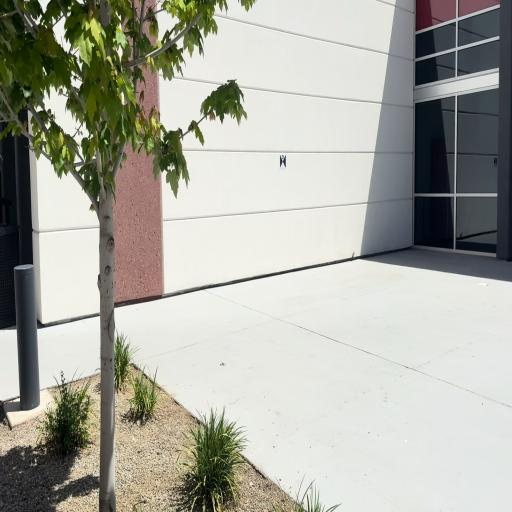target0: (279, 154, 286, 169)
